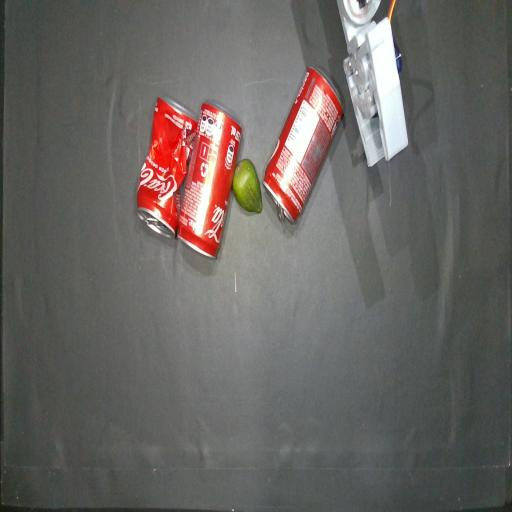higo: (232, 159, 262, 213)
lata: (263, 68, 342, 222), (177, 101, 242, 257)
lata_defectuoso: (137, 98, 197, 238)
